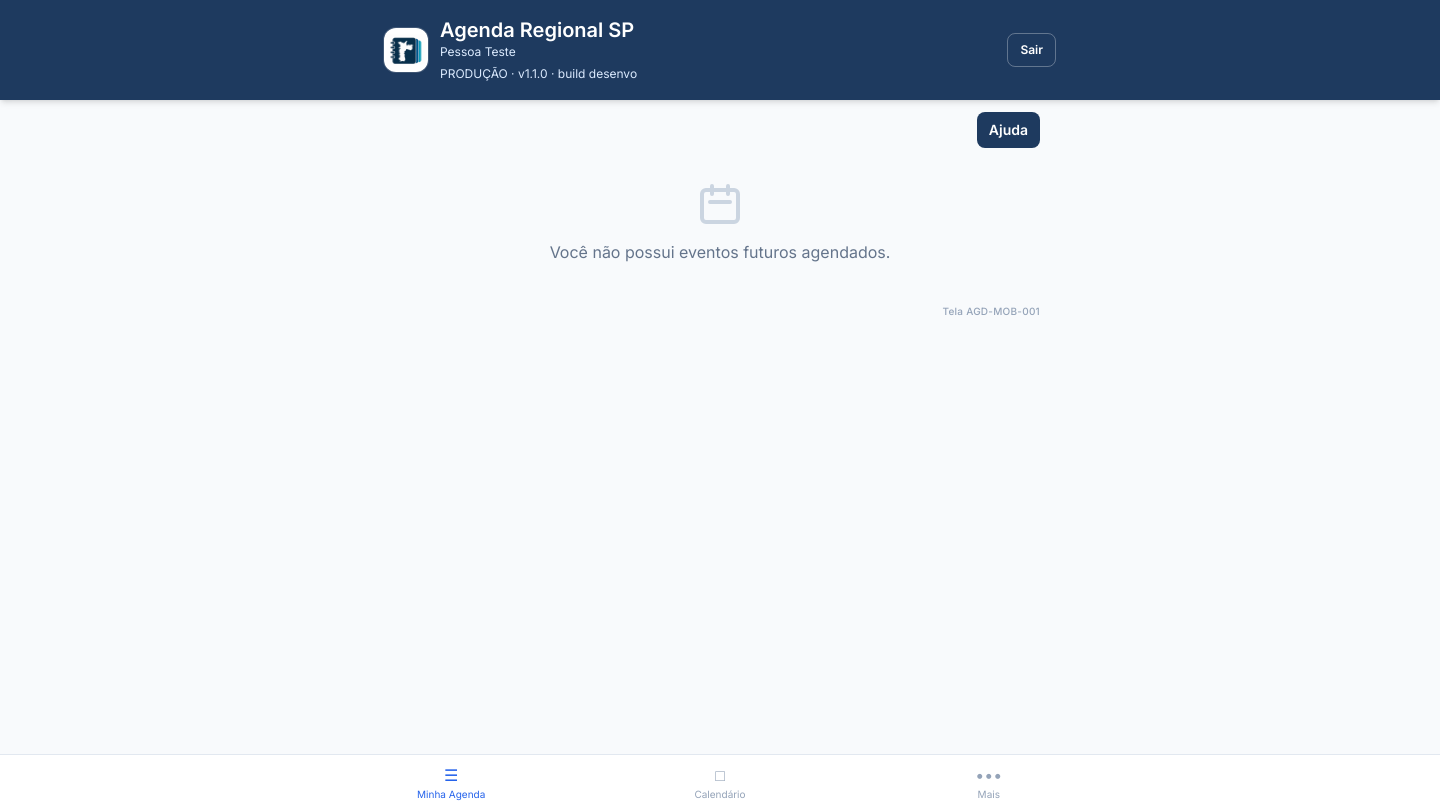
Test: App — S07 Minha Agenda › exibe módulos restritos quando as capacidades são concedidas
Click the button "••• Mais".
click(989, 782)  # box top-left (922, 755), bottom-right (1056, 809)
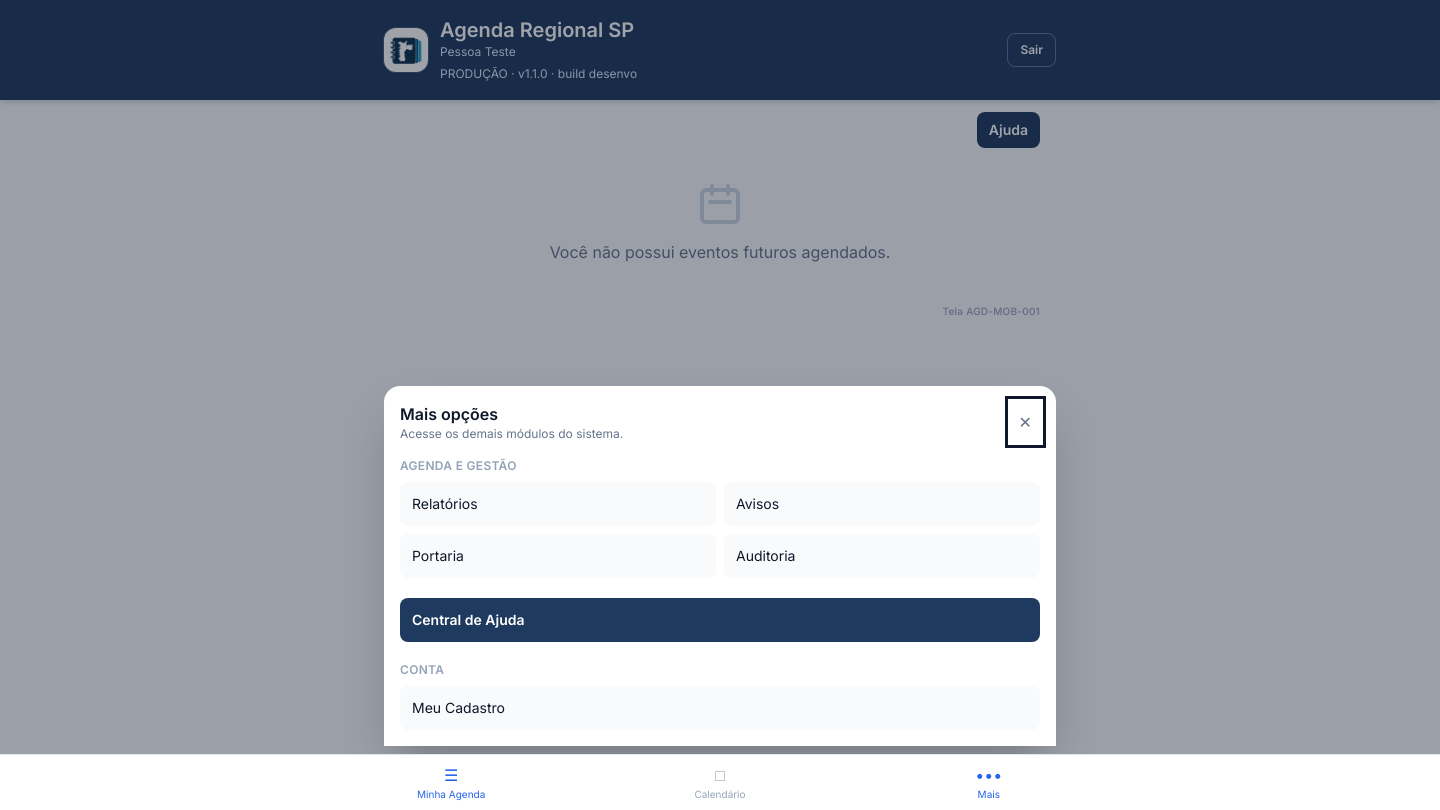
Expected: the button "Portaria" is shown, top-left (400, 534), bottom-right (716, 578)
Expected: the button "Relatórios" is shown, top-left (400, 482), bottom-right (716, 526)
Expected: the button "Auditoria" is shown, top-left (724, 534), bottom-right (1040, 578)
